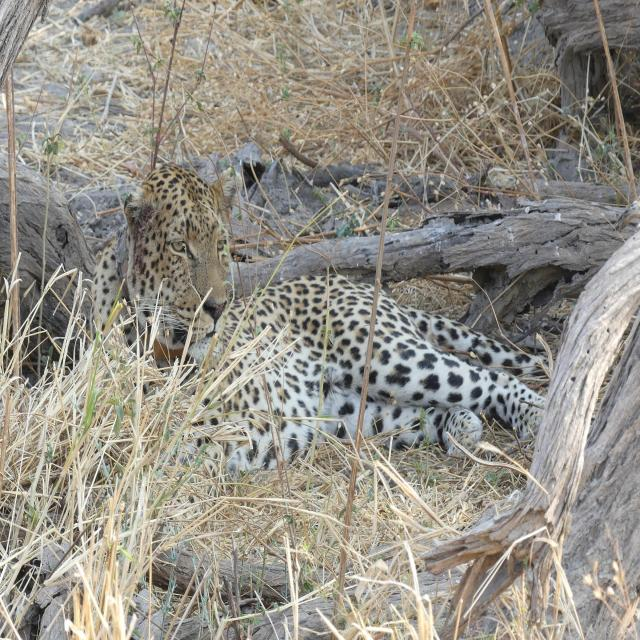Leopard: (93, 146, 549, 487)
